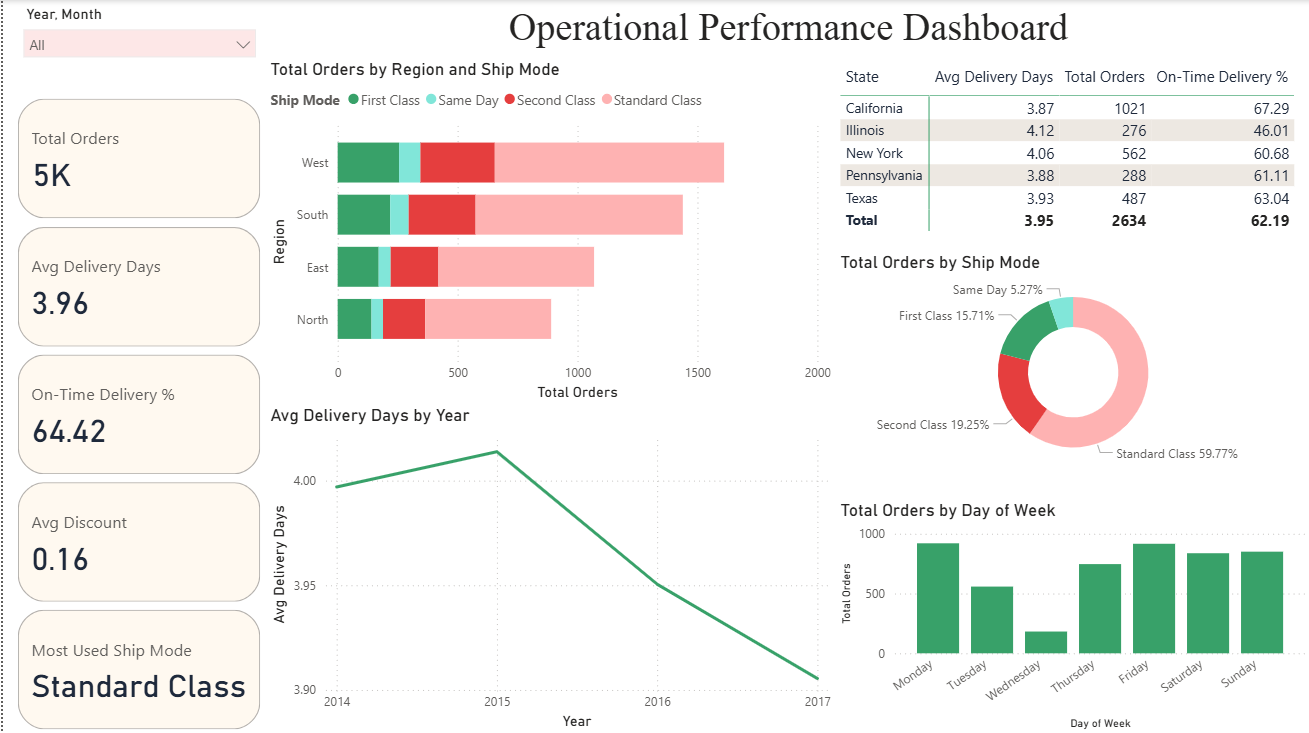

Layout of this report page (visuals, bound fields, positions):
{"tool":"powerbi","page":{"name":"Page 5","canvas":[1280,720],"ordinal":4},"visuals":[{"type":"textbox","box":[256.8,0,1023.2,57.2],"z":0},{"type":"cardVisual","fields":{"Data":["Customer.Total Orders","Date.Average Delivery Days","Date.On-Time Delivery %","Sales.Avg Discount","Date.Most Used Ship Mode"]},"box":[9.8,92.1,247.1,628.1],"z":1000},{"type":"lineChart","fields":{"Category":["Date.Year","Date.Month"],"Y":["Date.Avg Delivery Days"]},"box":[256.9,396.7,558.1,322.8],"z":2000},{"type":"barChart","fields":{"Category":["Geography.Region"],"Y":["Customer.Total Orders"],"Series":["Sales.Ship Mode"]},"box":[256.9,57.8,558.1,338.9],"z":3000},{"type":"donutChart","fields":{"Category":["Sales.Ship Mode"],"Y":["Customer.Total Orders"]},"box":[815,246.1,465.3,217.9],"z":4000},{"type":"columnChart","fields":{"Y":["Customer.Total Orders"],"Category":["Date.Day of Week"]},"box":[815,489.5,465.3,230],"z":5000},{"type":"pivotTable","fields":{"Rows":["Geography.State"],"Values":["Date.Avg Delivery Days","Customer.Total Orders","Date.On-Time Delivery %"]},"box":[815,57.8,465.3,188.3],"z":6000},{"type":"slicer","fields":{"Values":["Date.Year","Date.Month"]},"box":[9.4,0,247.4,92.8],"z":7000}]}

Visuals, with their boxes in screenshot pixels (x1, y1, x2, y2), scaled from the page's 1280x720 canvas onto the 1309x733 screenshot:
textbox: <region>263, 0, 1308, 58</region>
cardVisual - Customer.Total Orders x Date.Average Delivery Days: <region>10, 94, 263, 732</region>
lineChart - Date.Year x Date.Month: <region>263, 404, 833, 732</region>
barChart - Geography.Region x Customer.Total Orders: <region>263, 59, 833, 404</region>
donutChart - Sales.Ship Mode x Customer.Total Orders: <region>833, 251, 1308, 472</region>
columnChart - Customer.Total Orders x Date.Day of Week: <region>833, 498, 1308, 732</region>
pivotTable - Geography.State x Date.Avg Delivery Days: <region>833, 59, 1308, 251</region>
slicer - Date.Year x Date.Month: <region>10, 0, 263, 94</region>
